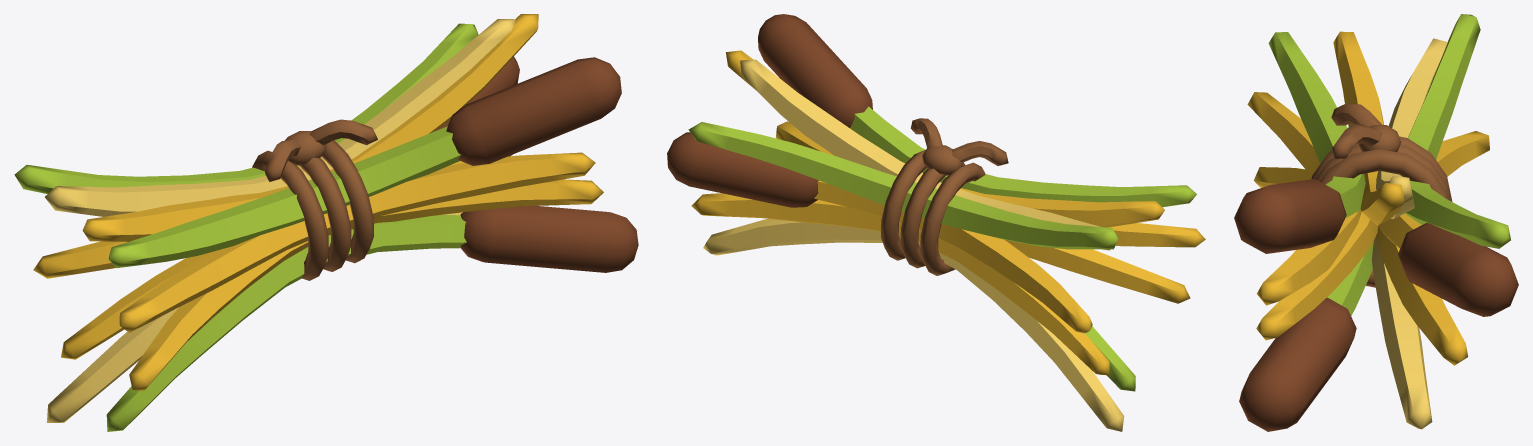
The model's file is item_reed_fiber.glb.
3 views of the same model, side by side, from view 1: azimuth 30°, elevation 25°; view 2: azimuth 150°, elevation 25°; view 3: azimuth 270°, elevation 25° (orthographic). The views are drawn at different scales.
Parts seen in each view (by area): view 1: ReedFiber; view 2: ReedFiber; view 3: ReedFiber.
Boxes of the visible parts, x1,y1,x2,y2 form: ReedFiber: (14, 14, 638, 431); ReedFiber: (667, 14, 1205, 431); ReedFiber: (1234, 14, 1518, 431).
Bounding box in the file's own units: 0.3229 × 0.1829 × 0.1437.
